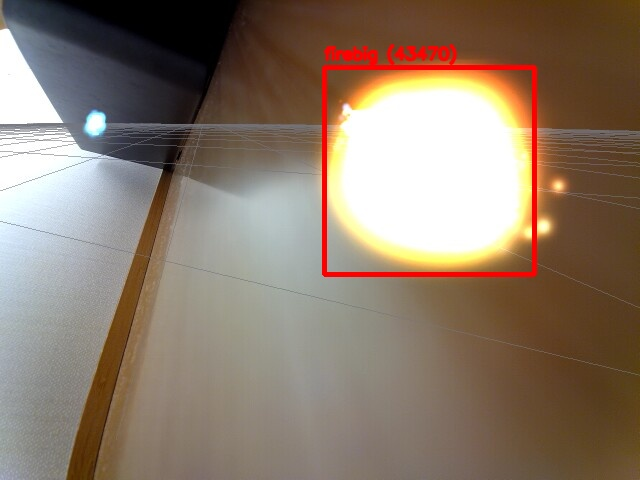firebig: (324, 67, 534, 274)
